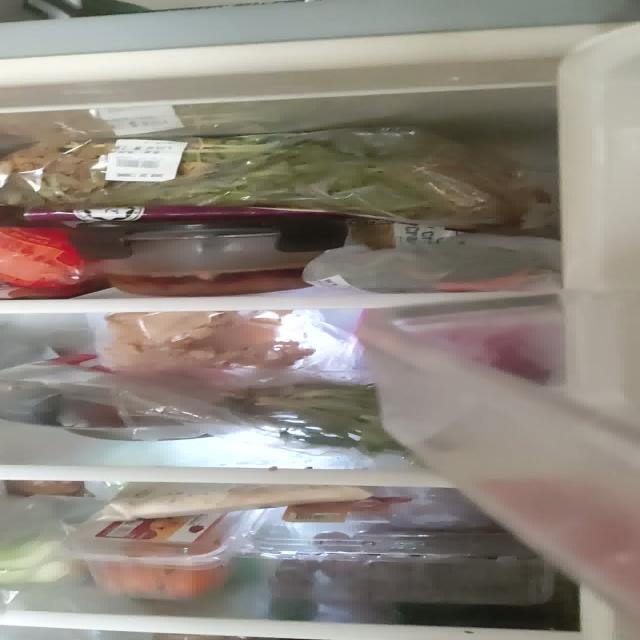leafy_greens: (0, 125, 531, 226)
orange: (0, 226, 88, 289)
tempeh: (100, 482, 373, 522)
